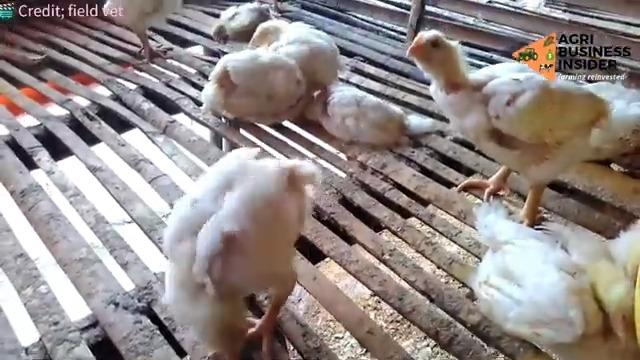AbNormal: (157, 155, 314, 359)
